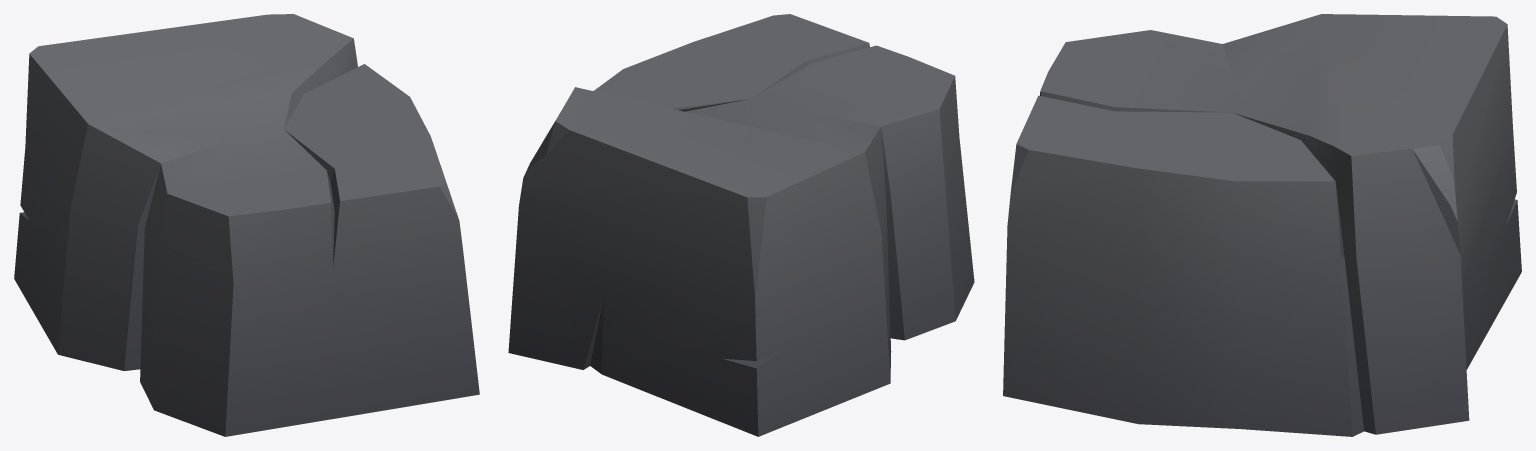
Rendered from BigRock_02.fbx.
3 renders of one model, left to right at view 1: azimuth 30°, elevation 25°; view 2: azimuth 150°, elevation 25°; view 3: azimuth 270°, elevation 25°, orthographic. The views are drawn at different scales.
Visible parts, largest first — view 1: BigRock_02_LOD0; view 2: BigRock_02_LOD0; view 3: BigRock_02_LOD0.
Part boxes in pixels (bbox=[...]): BigRock_02_LOD0: bbox=[14, 14, 479, 436]; BigRock_02_LOD0: bbox=[508, 14, 974, 436]; BigRock_02_LOD0: bbox=[1003, 14, 1521, 436].
Size of what is drawn, in the model's own units: 4.13 by 2.61 by 4.78.
